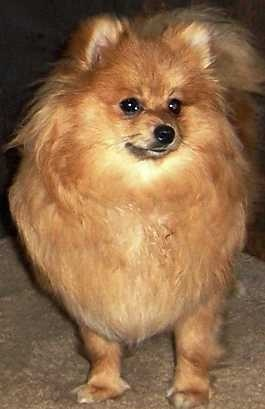Dog: (9, 8, 264, 395)
